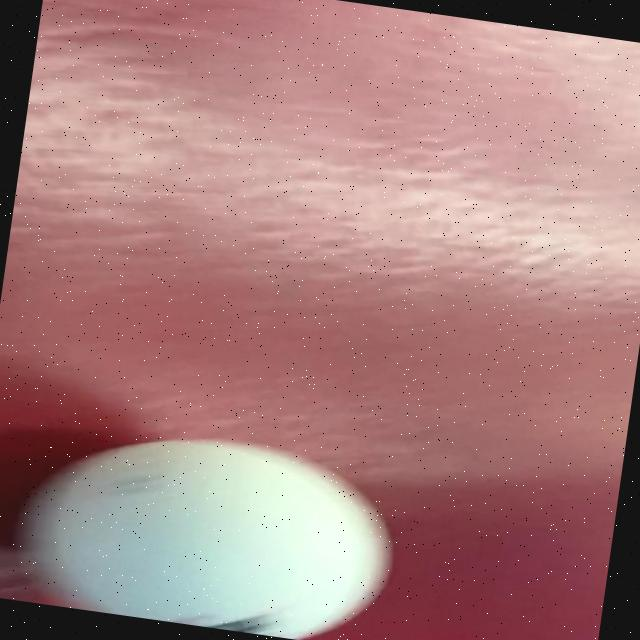ping-pong-ball: (0, 396, 431, 640)
